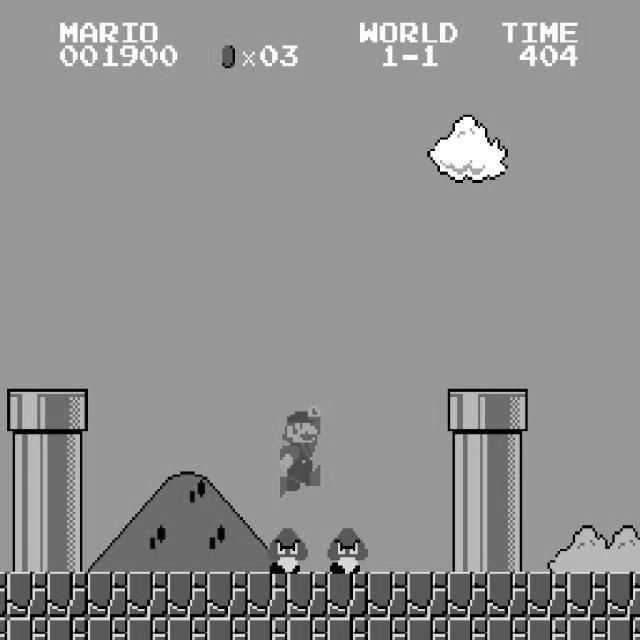0- big_mario: (277, 403, 320, 497)
14- pipe: (7, 434, 48, 480), (7, 480, 48, 526), (7, 526, 48, 572), (47, 434, 88, 480), (47, 480, 88, 526), (47, 526, 88, 572), (447, 434, 488, 480), (447, 480, 488, 526), (447, 526, 488, 572), (487, 434, 528, 480), (487, 480, 528, 526), (487, 526, 528, 572)
15- pipe_head: (7, 388, 48, 434), (47, 388, 88, 434), (447, 388, 488, 434), (487, 388, 528, 434)
17- undestructible_block: (7, 572, 48, 618), (47, 572, 88, 618), (87, 572, 128, 618), (127, 572, 168, 618), (167, 572, 208, 618), (207, 572, 248, 618), (247, 572, 288, 618), (287, 572, 328, 618), (327, 572, 368, 618), (367, 572, 408, 618), (407, 572, 448, 618), (447, 572, 488, 618), (487, 572, 528, 618), (527, 572, 568, 618), (567, 572, 608, 618), (607, 571, 640, 617), (7, 617, 48, 640), (47, 617, 88, 640), (87, 617, 128, 640), (127, 617, 168, 640), (167, 617, 208, 640), (207, 617, 248, 640), (247, 617, 288, 640), (287, 617, 328, 640), (327, 617, 368, 640), (367, 617, 408, 640), (407, 617, 448, 640), (447, 617, 488, 640), (487, 617, 528, 640), (527, 617, 568, 640), (567, 617, 608, 640), (607, 617, 640, 639), (0, 572, 7, 618), (0, 617, 7, 640)
8- goomba: (324, 526, 368, 574), (265, 526, 308, 574)
